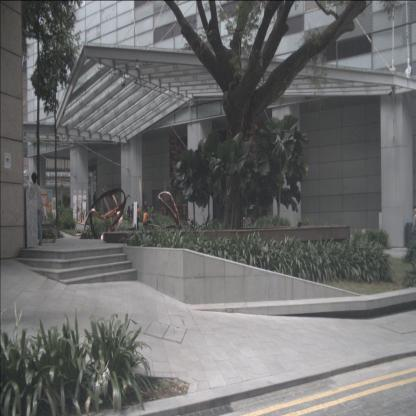human-pedestrian-adult: (29, 171, 47, 246), (411, 208, 416, 261), (143, 209, 152, 231), (126, 205, 132, 232), (130, 203, 135, 232), (136, 203, 140, 232), (150, 210, 155, 232), (93, 191, 97, 210)
